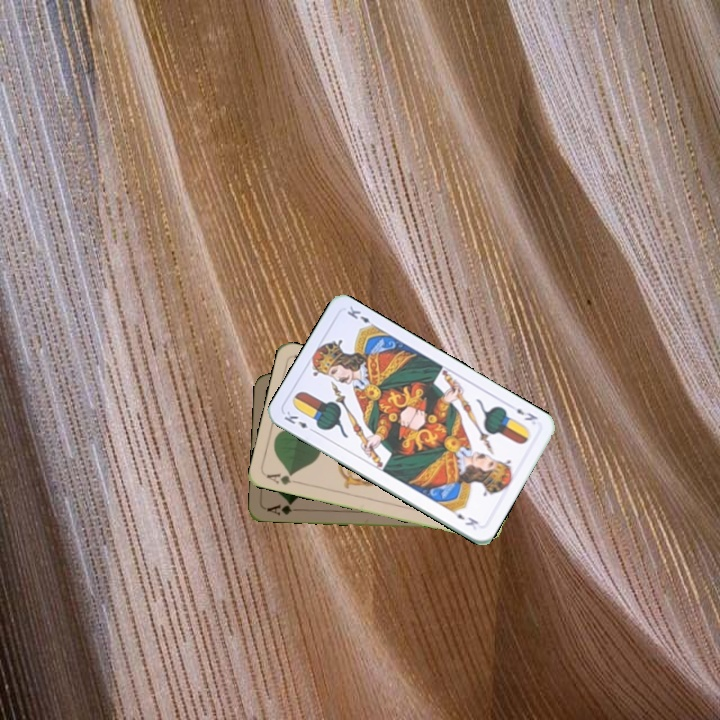EK: (280, 407, 318, 435), (506, 400, 540, 423)
GA: (263, 498, 303, 518), (262, 469, 303, 487)
